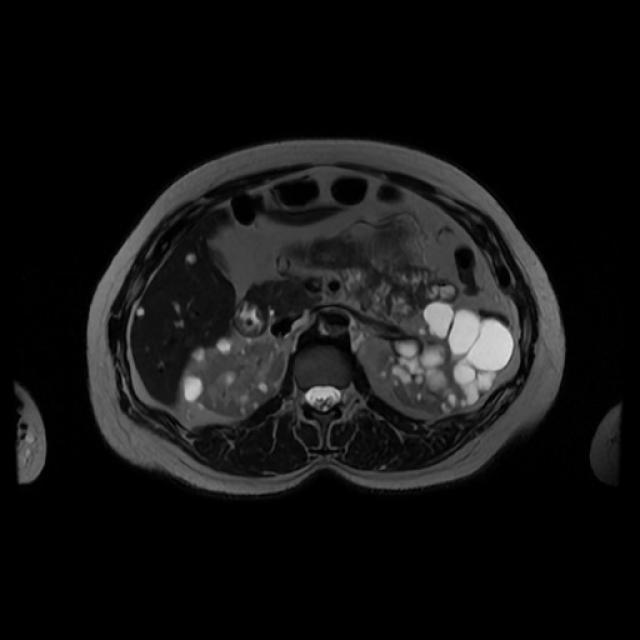sag: (185, 337, 285, 417)
sol: (383, 303, 514, 413)
